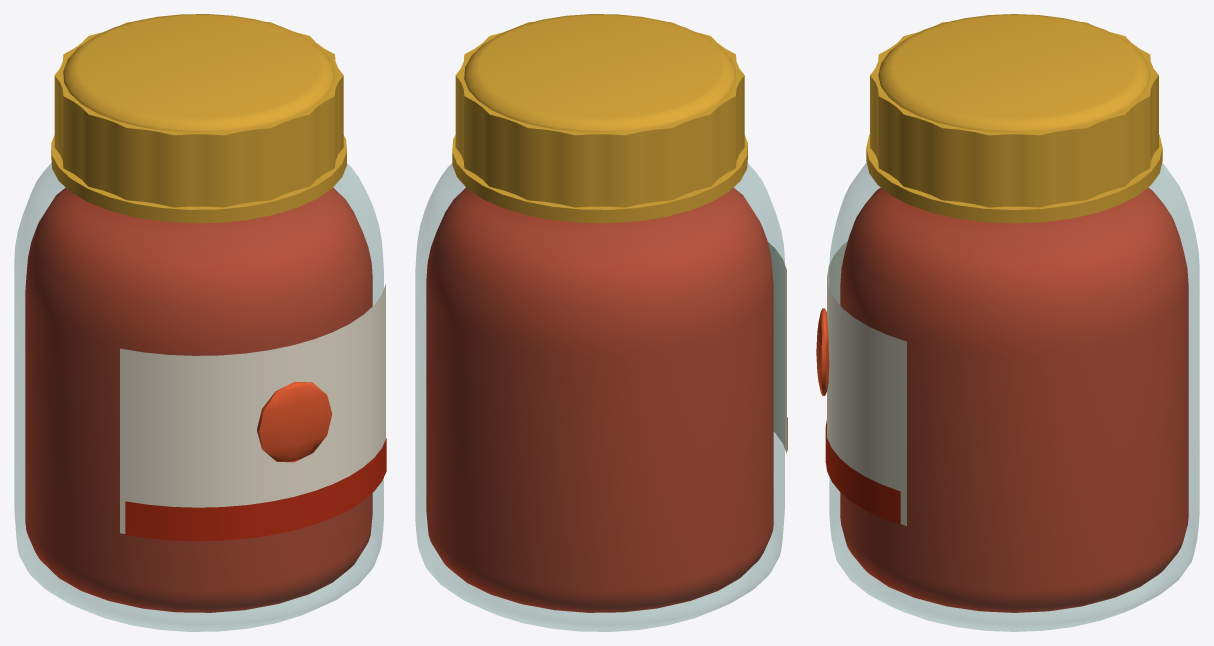
The model's file is spice_jar_a.glb.
The picture shows the model from 3 angles, left to right: view 1: azimuth 30°, elevation 25°; view 2: azimuth 150°, elevation 25°; view 3: azimuth 270°, elevation 25°; orthographic projection.
Visible parts, largest first — view 1: SpiceJarA; view 2: SpiceJarA; view 3: SpiceJarA.
Boxes of the visible parts, <box> form: SpiceJarA: <box>14,14,386,631</box>; SpiceJarA: <box>415,14,787,631</box>; SpiceJarA: <box>816,14,1199,631</box>.
Bounding box in the file's own units: 2 × 3 × 2.07.
